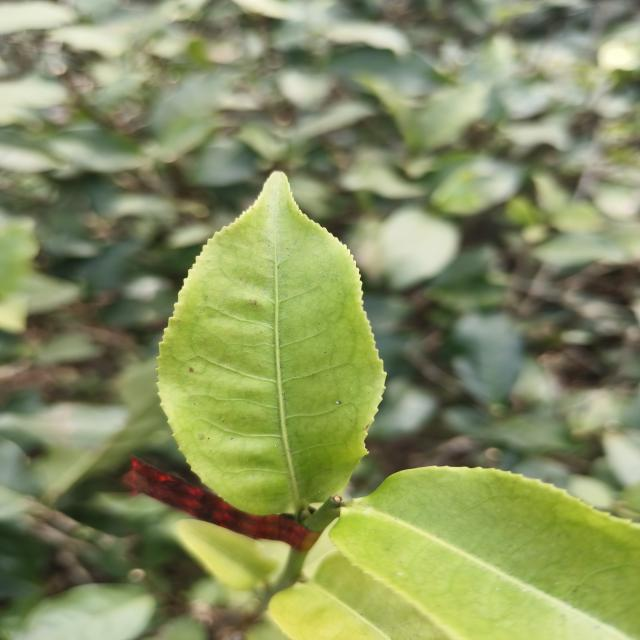Leaf: (157, 172, 385, 515), (330, 467, 640, 640), (275, 552, 450, 640), (11, 584, 156, 640), (174, 519, 277, 591), (380, 205, 460, 289), (453, 314, 523, 405), (330, 47, 437, 96), (418, 83, 489, 149), (432, 163, 518, 215), (47, 128, 142, 172), (533, 232, 626, 267)
